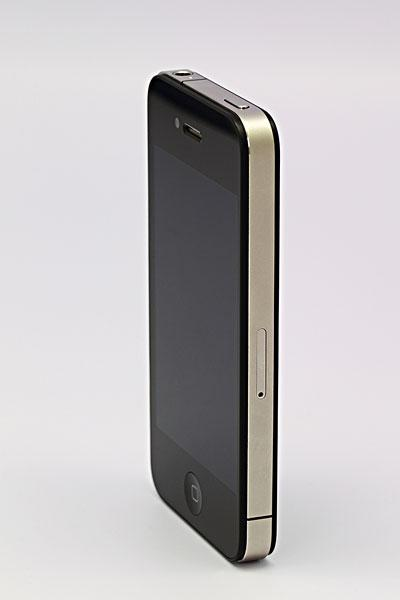phone: (144, 65, 282, 573)
